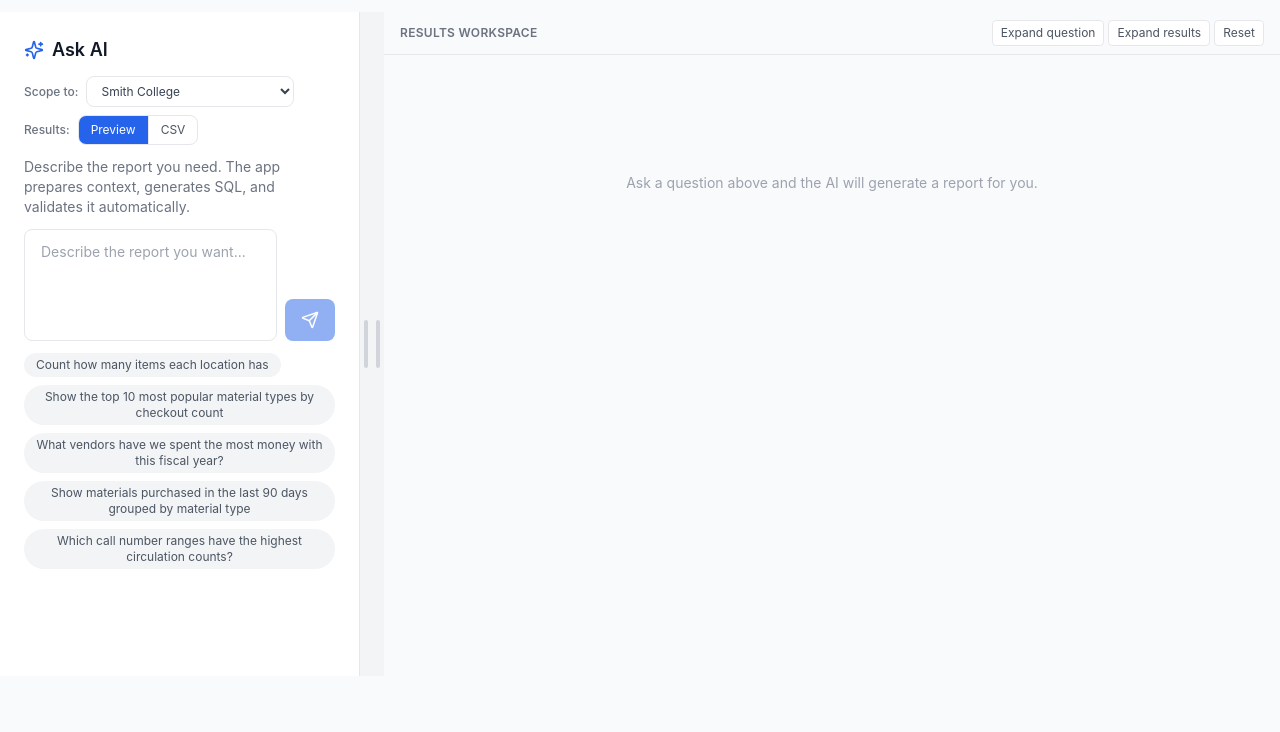
Test: Ask request lifecycle › renders successful AI-built reports with provenance only, without internal review details
Type "Build an uncommon report" into the text box with placeholder "Describe the report you want..." at (150, 285), box x1=24 y1=229 x2=277 y2=341
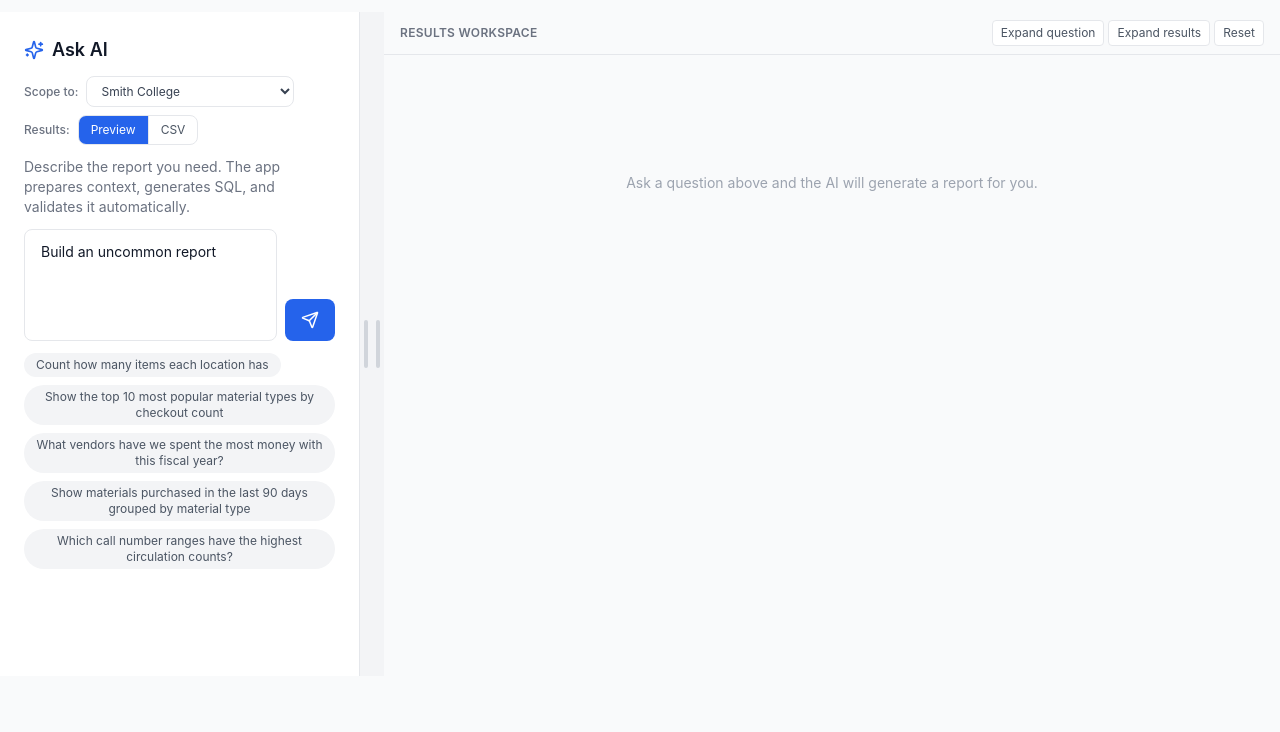
Press Enter in the text box with placeholder "Describe the report you want...", box x1=24 y1=229 x2=277 y2=341
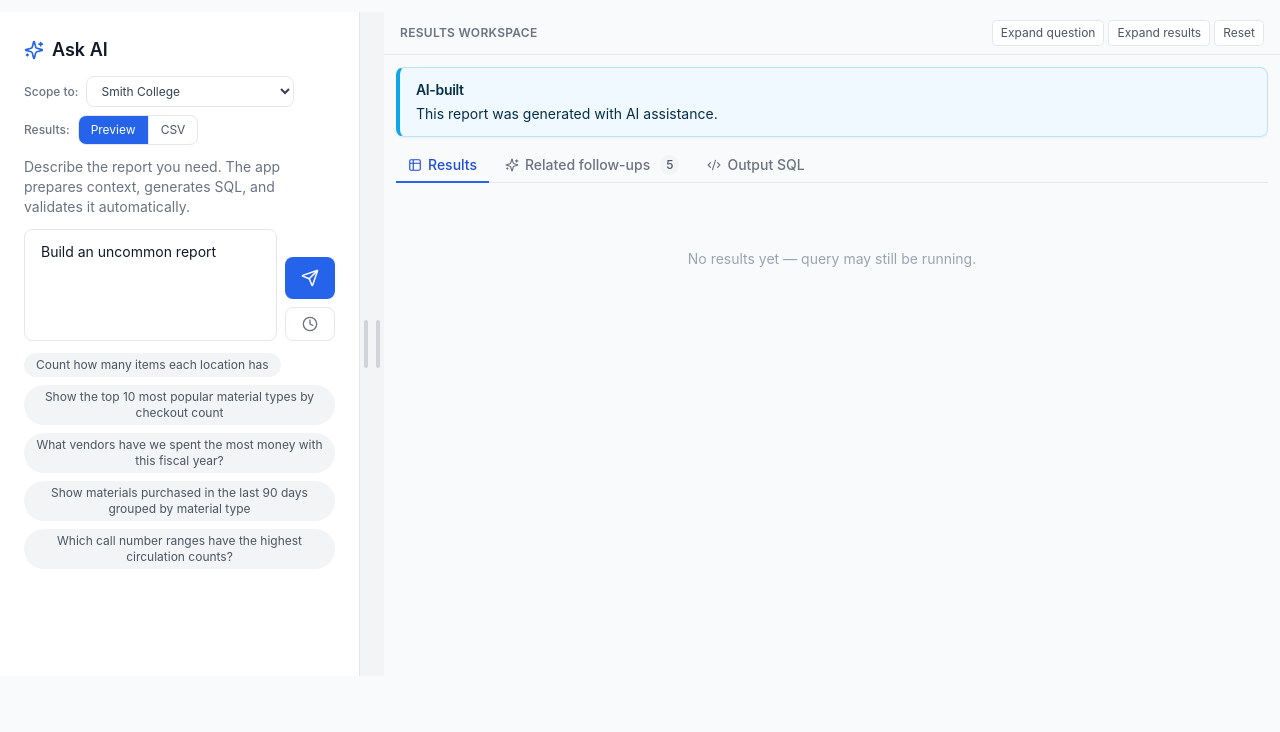
Check: the heading "AI-built" is shown, box x1=416 y1=81 x2=464 y2=98
Check: the text "This report was generated with AI assistance." is shown, box x1=416 y1=105 x2=718 y2=122
